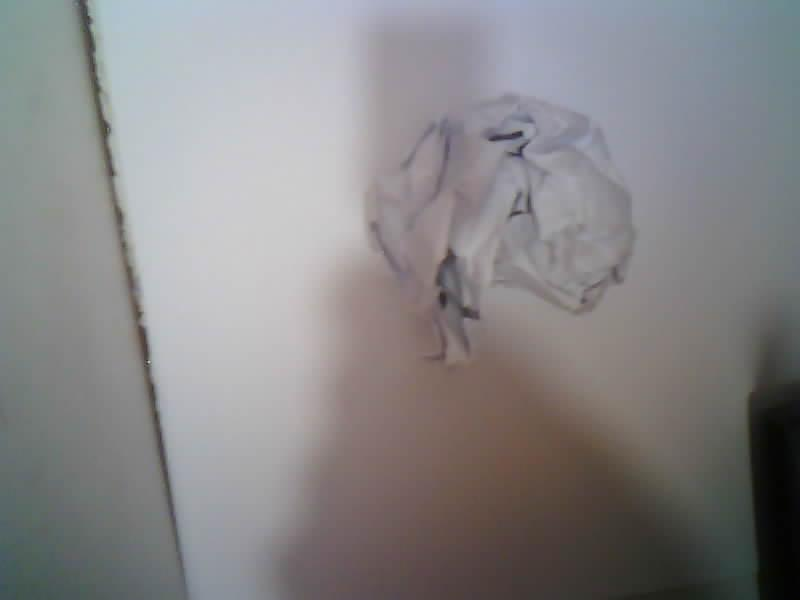biodegradable: (366, 94, 634, 363)
